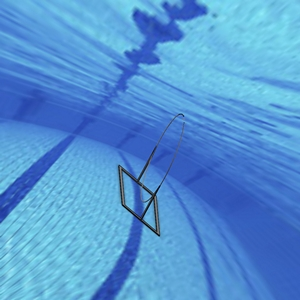circle: (117, 110, 186, 237)
